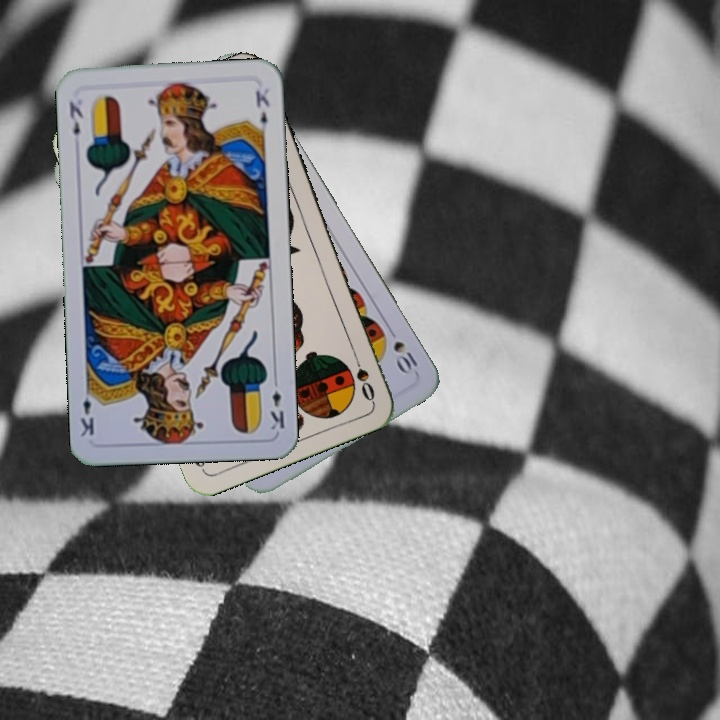EK: (267, 373, 287, 433), (65, 97, 86, 138)
S10: (383, 322, 423, 378)
SO: (348, 347, 378, 404)
